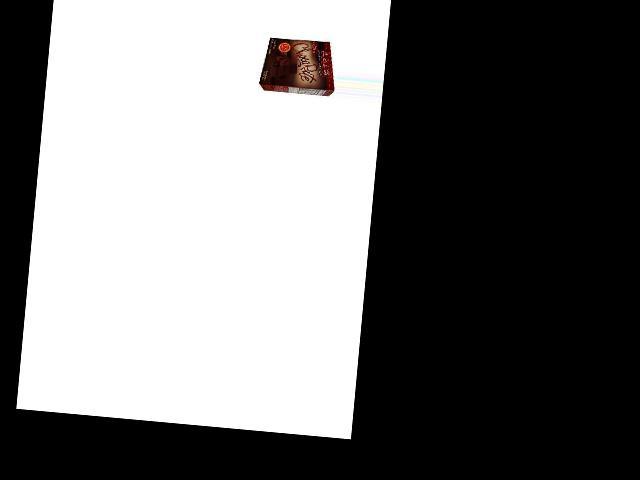chocolate: (258, 34, 336, 96)
